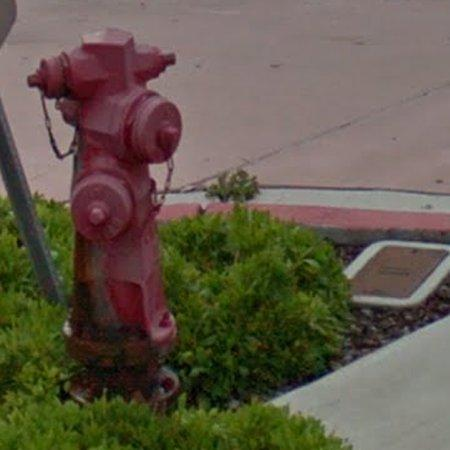a fire hydrant: (27, 28, 182, 409)
